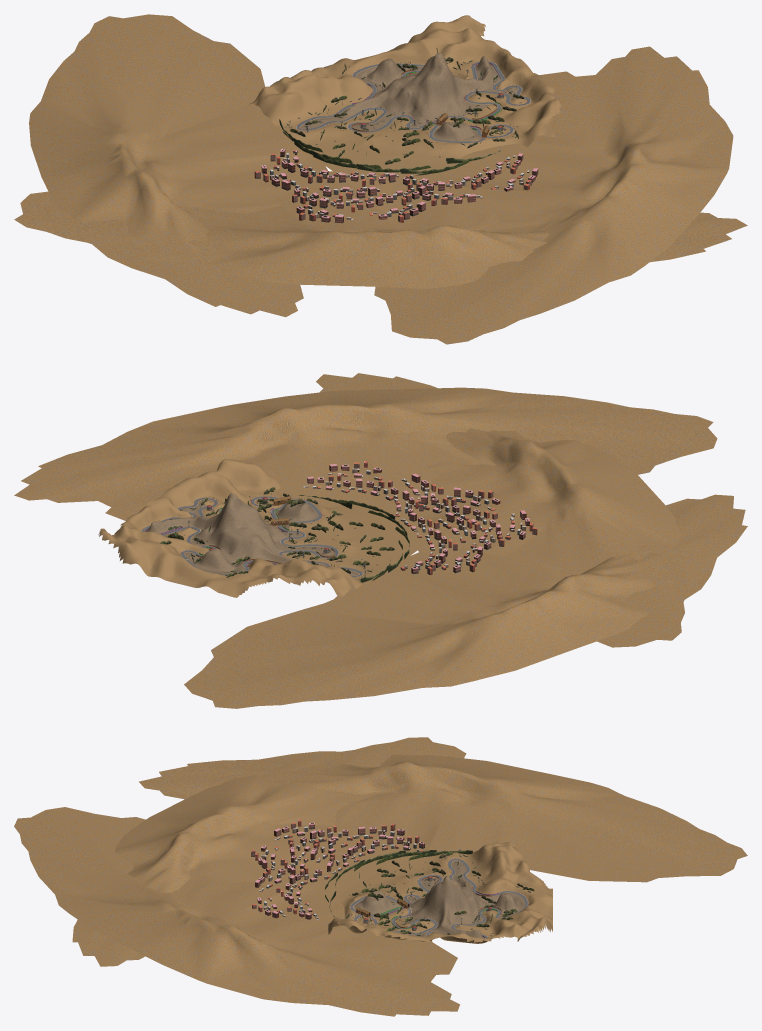
The model's file is track6.glb.
3 renders of one model, top to bottom at view 1: azimuth 30°, elevation 25°; view 2: azimuth 150°, elevation 25°; view 3: azimuth 270°, elevation 25°, orthographic. The views are drawn at different scales.
Parts seen in each view (by area): view 1: Props_Mountain_01_2, Props_Mountain_01, Props_Mountain_01_1, T3_01_Track_Terrain_018_LOD0, T3_01_Track_Terrain_029_LOD0, Props_Town_01, Props_Town_01_2, Props_Town_01_1, T3_01_Track_Terrain_038_LOD0, T3_01_Track_Terrain_046_LOD0, T3_01_Track_Terrain_007_LOD0, T3_01_Track_Terrain_012_LOD0 (+13 smaller); view 2: Props_Mountain_01, Props_Mountain_01_2, Props_Mountain_01_1, Props_Town_01_2, Props_Town_01, Props_Town_01_1, T3_01_Track_Terrain_012_LOD0, T3_01_Track_Terrain_035_LOD0, T3_01_Track_Terrain_046_LOD0, T3_01_Track_Terrain_045_LOD0, T3_01_Track_Terrain_001_LOD0, T3_01_Track_Terrain_042_LOD0 (+13 smaller); view 3: Props_Mountain_01_2, Props_Mountain_01, Props_Mountain_01_1, Props_Town_01, T3_01_Track_Terrain_018_LOD0, Props_Town_01_2, Props_Town_01_1, T3_01_Track_Terrain_042_LOD0, T3_01_Track_Terrain_001_LOD0, T3_01_Track_Terrain_029_LOD0, T3_01_Track_Terrain_035_LOD0, T3_01_Track_Terrain_046_LOD0 (+8 smaller).
Part boxes in pixels (x1,y1,x2,y2): Props_Mountain_01_2: [374, 46, 733, 344]; Props_Mountain_01: [29, 14, 332, 317]; Props_Mountain_01_1: [14, 171, 747, 288]; T3_01_Track_Terrain_018_LOD0: [399, 52, 488, 122]; T3_01_Track_Terrain_029_LOD0: [254, 74, 334, 130]; Props_Town_01: [254, 148, 398, 201]; Props_Town_01_2: [292, 185, 425, 223]; Props_Town_01_1: [403, 153, 538, 205]; T3_01_Track_Terrain_038_LOD0: [441, 38, 513, 79]; T3_01_Track_Terrain_046_LOD0: [408, 15, 485, 56]; T3_01_Track_Terrain_007_LOD0: [370, 124, 459, 163]; T3_01_Track_Terrain_012_LOD0: [497, 80, 555, 131]; Props_Mountain_01: [184, 494, 747, 708]; Props_Mountain_01_2: [14, 387, 717, 520]; Props_Mountain_01_1: [316, 373, 690, 647]; Props_Town_01_2: [414, 487, 537, 549]; Props_Town_01: [400, 512, 482, 574]; Props_Town_01_1: [303, 461, 443, 516]; T3_01_Track_Terrain_012_LOD0: [173, 461, 258, 509]; T3_01_Track_Terrain_035_LOD0: [184, 511, 256, 566]; T3_01_Track_Terrain_046_LOD0: [98, 525, 169, 574]; T3_01_Track_Terrain_045_LOD0: [147, 545, 216, 587]; T3_01_Track_Terrain_001_LOD0: [349, 527, 432, 560]; T3_01_Track_Terrain_042_LOD0: [205, 564, 289, 597]; Props_Mountain_01_2: [14, 807, 459, 1016]; Props_Mountain_01: [139, 751, 747, 882]; Props_Mountain_01_1: [72, 737, 466, 966]; Props_Town_01: [310, 823, 424, 873]; T3_01_Track_Terrain_018_LOD0: [407, 876, 460, 924]; Props_Town_01_2: [251, 819, 352, 877]; Props_Town_01_1: [252, 867, 330, 919]; T3_01_Track_Terrain_042_LOD0: [506, 861, 552, 898]; T3_01_Track_Terrain_001_LOD0: [355, 855, 407, 879]; T3_01_Track_Terrain_029_LOD0: [460, 842, 506, 877]; T3_01_Track_Terrain_035_LOD0: [460, 886, 506, 923]; T3_01_Track_Terrain_046_LOD0: [506, 910, 552, 941].
Bounding box in the file's own units: 2289 × 179 × 2532.
10 materials, 10 textured.
